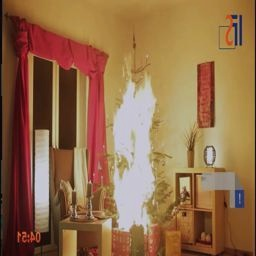fire: (95, 68, 167, 243)
